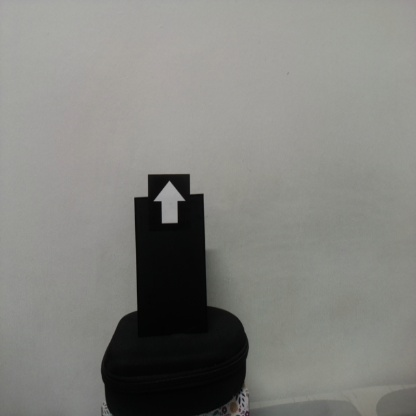id_1: (149, 176, 190, 237)
